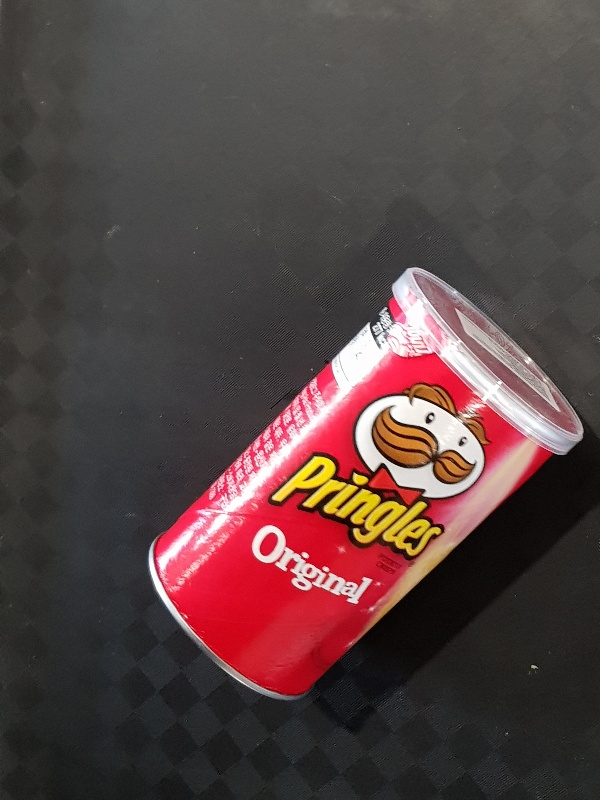Pringles Original: (148, 264, 583, 703)
